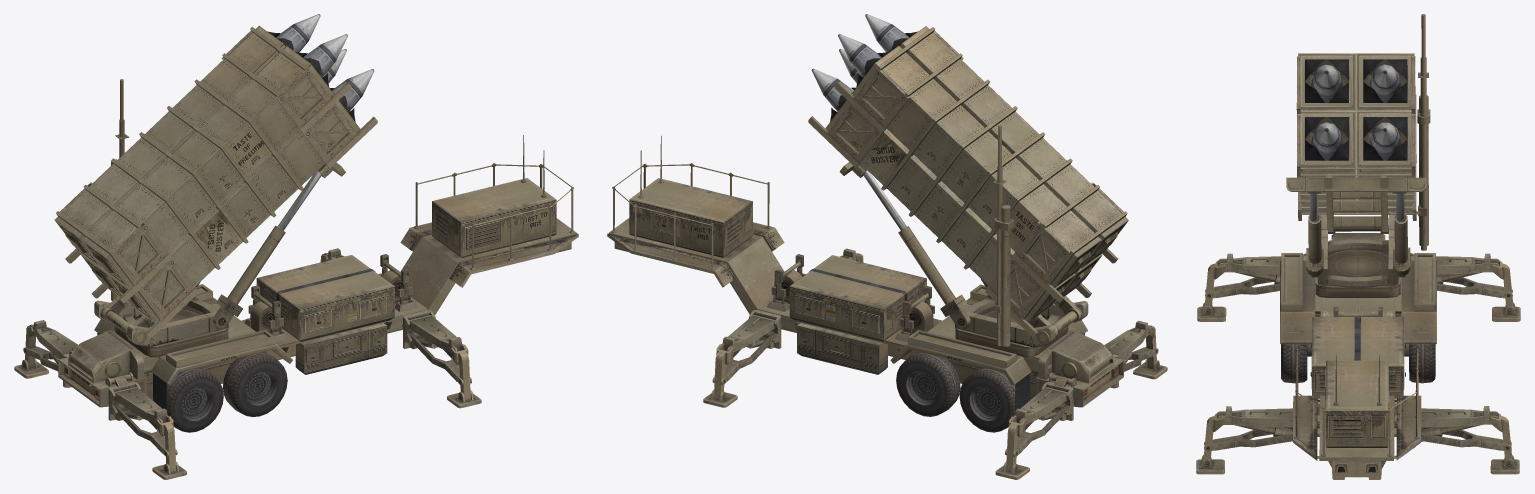
3 renders of one model, left to right at view 1: azimuth 30°, elevation 25°; view 2: azimuth 150°, elevation 25°; view 3: azimuth 270°, elevation 25°, orthographic. The views are drawn at different scales.
Parts seen in each view (by area): view 1: Turret_4, Object_3, Object_2; view 2: Turret_4, Object_3, Object_2; view 3: Object_3, Turret_4, Object_2.
Part boxes in pixels (box(x1,y1,x2,y2)): Turret_4: box(54, 14, 377, 344); Object_3: box(14, 135, 578, 479); Object_2: box(167, 351, 287, 432); Turret_4: box(808, 14, 1128, 346); Object_3: box(607, 135, 1167, 479); Object_2: box(896, 352, 1015, 432); Object_3: box(1196, 215, 1520, 479); Turret_4: box(1286, 14, 1430, 277); Object_2: box(1281, 344, 1435, 383).
Bounding box in the file's own units: 1022 × 697 × 561.
2 materials, 2 textured.
